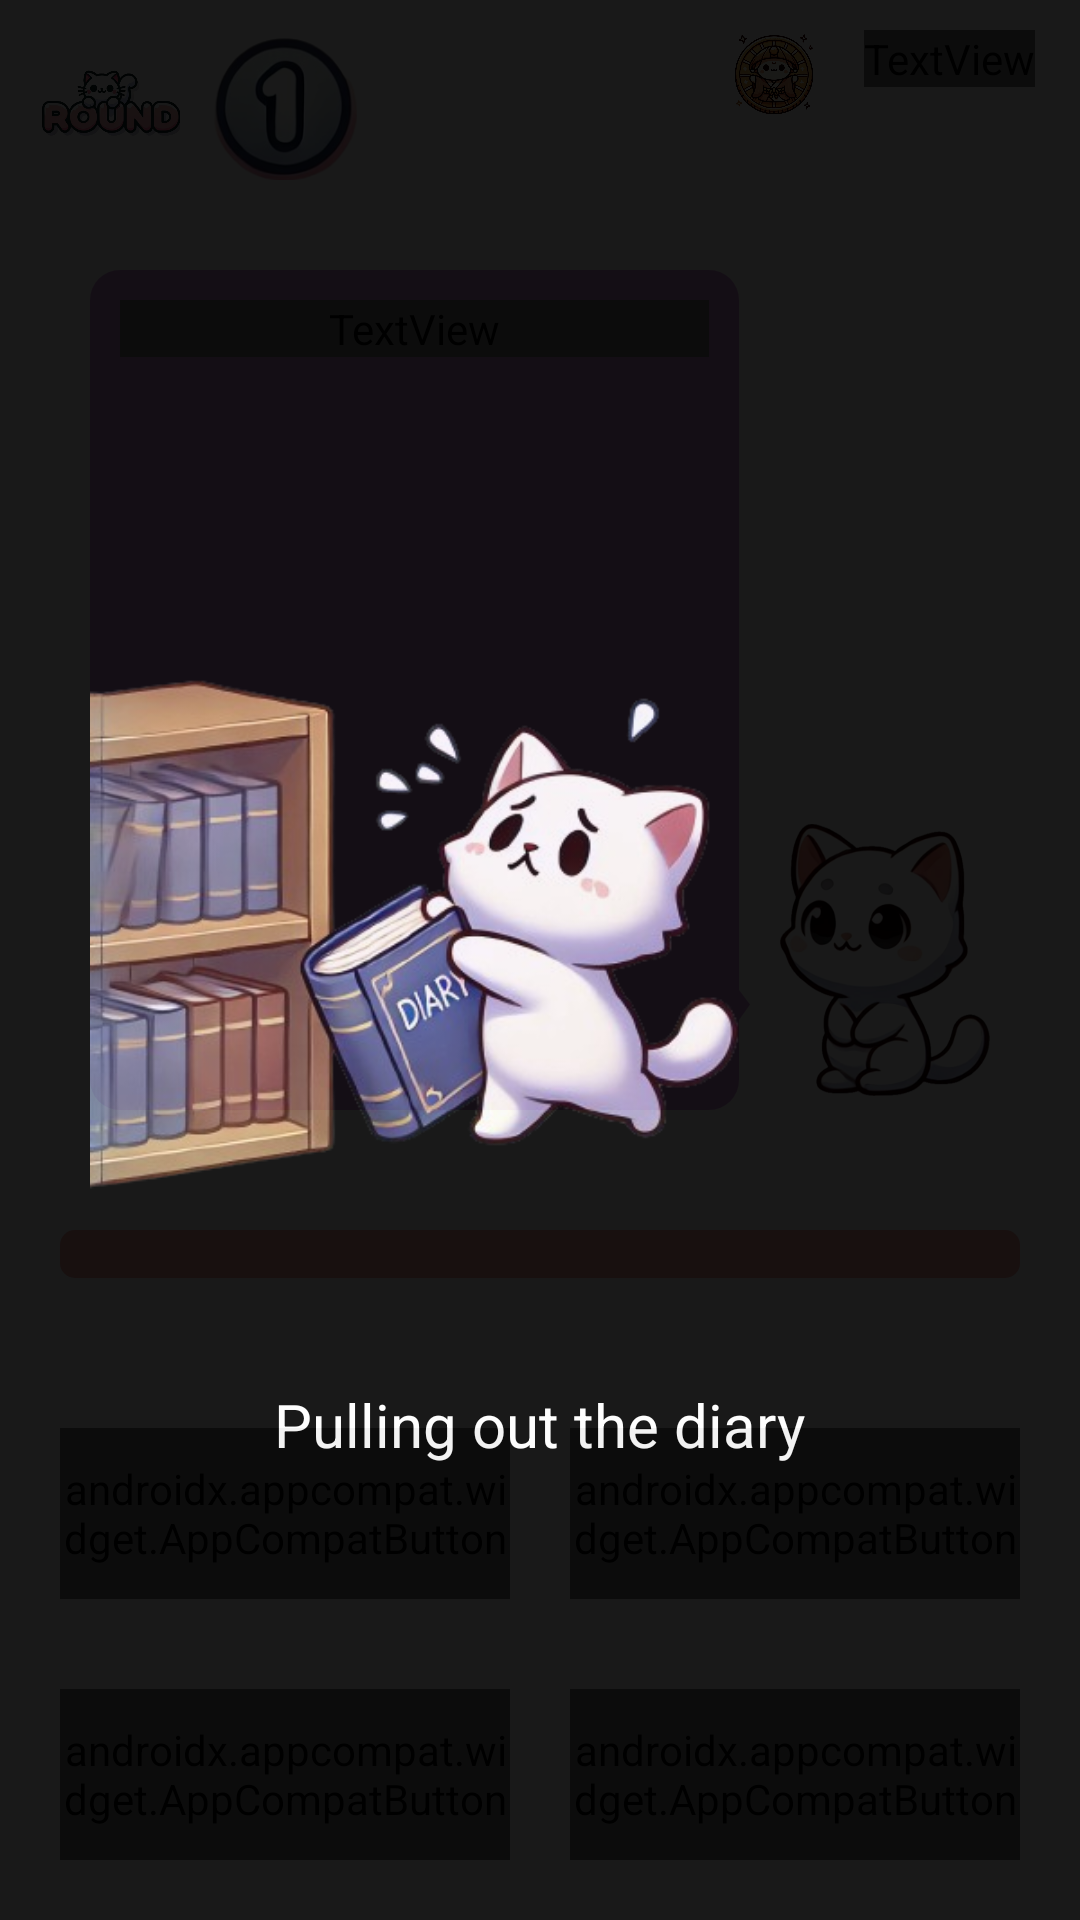

Screen size 1080×1920. Icon name, then its center in pixels as point (x, y):
coin: point (774, 74)
number: point (284, 105)
sitting cat: point (884, 960)
